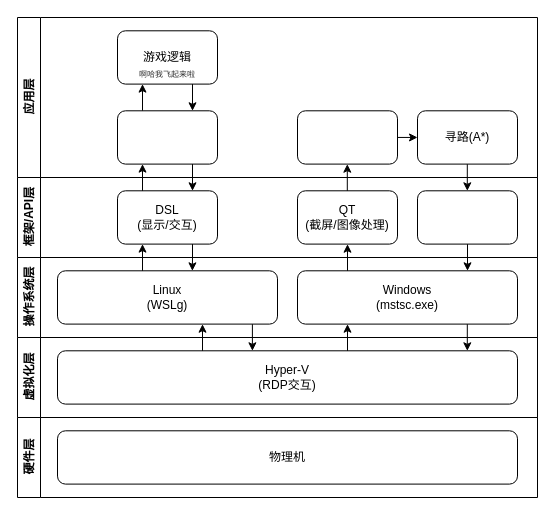
Some shapes in this 555 by 515 pixel diagram are drawn without their labels. The shapes that lost their labels are listed below. From the top down, each one's centre as x and y in pixels, then its label:
At point 167,137: "NEMU (指令 模拟)".
At point 347,137: "界面识别".
At point 467,217: "Windows API (键盘事件)".
